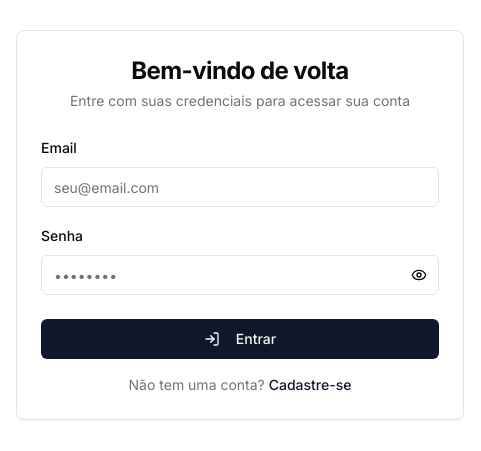
Test: LoginPage › should validate password field
In the field labelled "Email": point(240, 187) [41,167,439,207], type "test@example.com"
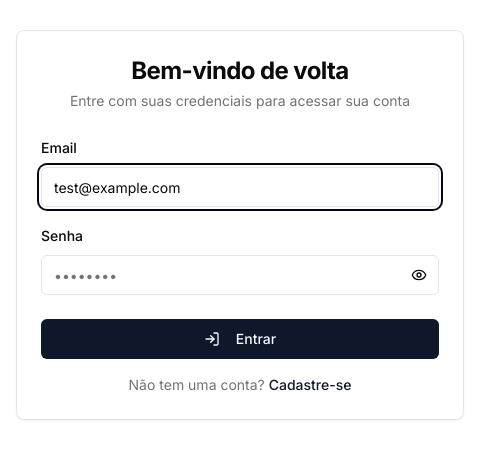
In the password field labelled "Senha": point(240, 275) [41,255,439,295], type "123"
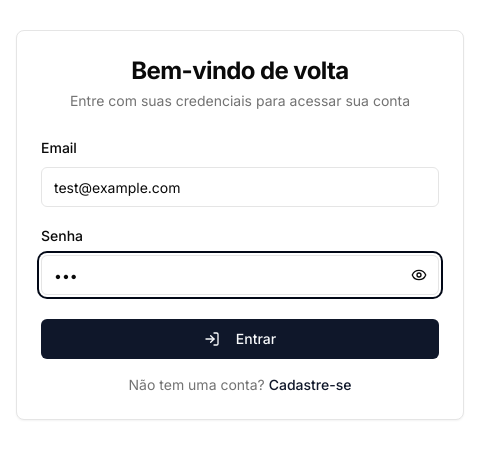
Click the button "Entrar": point(240, 339) [41,319,439,359]
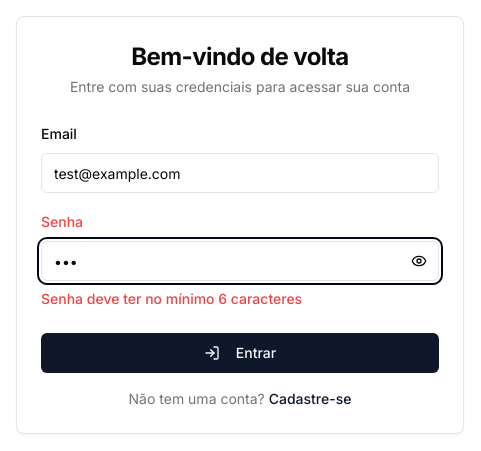
expect the text "Senha deve ter no mínimo 6 caracteres" is shown: met, box [41,290,302,307]
